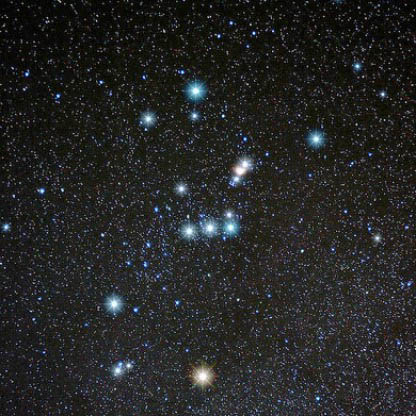Orion: (183, 354, 223, 396), (178, 69, 209, 107), (301, 120, 333, 154), (99, 285, 126, 322), (170, 216, 196, 245), (223, 211, 245, 245), (197, 215, 218, 243)
